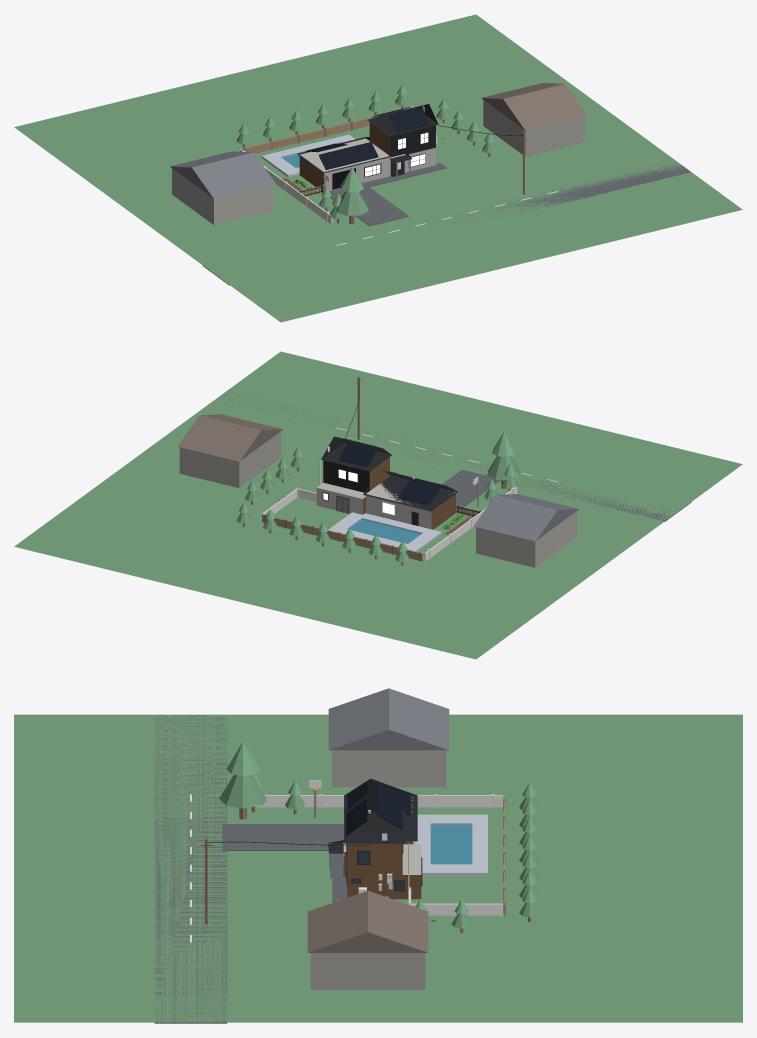
Rendered from house-v40.glb.
3 renders of one model, top to bottom at view 1: azimuth 30°, elevation 25°; view 2: azimuth 150°, elevation 25°; view 3: azimuth 270°, elevation 25°, orthographic. The views are drawn at different scales.
Parts seen in each view (by area): view 1: Ground, Neighbor_East_Roof, Neighbor_West_Roof, Neighbor_West, Neighbor_East, Street, House_Garage, House_MainUpper, Driveway, Fence_Rear, Tree_Street, PoolDeck (+3 smaller); view 2: Ground, Neighbor_West_Roof, Neighbor_East_Roof, Neighbor_East, Neighbor_West, House_Garage, PoolDeck, House_MainUpper, Roof_Garage, Street, Driveway, House_MainBase (+7 smaller); view 3: Ground, Street, Neighbor_West_Roof, Neighbor_East_Roof, Neighbor_East, Neighbor_West, Driveway, PoolDeck, House_MainUpper, Fence_West, Tree_Street, House_MainBase (+6 smaller).
Boxes of the visible parts, x1,y1,x2,y2 form: Ground: (14,14,742,322); Neighbor_East_Roof: (481,83,586,130); Neighbor_West_Roof: (170,151,275,198); Neighbor_West: (172,168,273,225); Neighbor_East: (483,100,584,156); Street: (202,162,690,285); House_Garage: (299,138,389,190); House_MainUpper: (369,116,435,157); Driveway: (329,183,408,226); Fence_Rear: (241,110,401,153); Tree_Street: (336,167,368,224); PoolDeck: (261,134,355,177); Ground: (14,351,742,659); Neighbor_West_Roof: (474,494,579,541); Neighbor_East_Roof: (177,414,282,461); Neighbor_East: (179,431,280,487); Neighbor_West: (476,511,577,567); House_Garage: (365,483,455,529); PoolDeck: (328,512,441,551); House_MainUpper: (323,457,389,492); Roof_Garage: (363,470,457,511); Street: (220,392,691,521); Driveway: (442,469,500,518); House_MainBase: (316,482,365,514); Ground: (14,714,742,1022); Street: (154,715,227,1023); Neighbor_West_Roof: (328,688,449,750); Neighbor_East_Roof: (307,891,428,952); Neighbor_East: (310,953,425,989); Neighbor_West: (331,750,446,787); Driveway: (222,824,343,850); PoolDeck: (415,814,487,875); House_MainUpper: (347,812,402,874); Fence_West: (255,794,503,807); Tree_Street: (219,741,266,819); House_MainBase: (347,844,421,899).
Bounding box in the file's own units: 70 × 10.08 × 70.
Materials: 49 (3 with a texture image).
